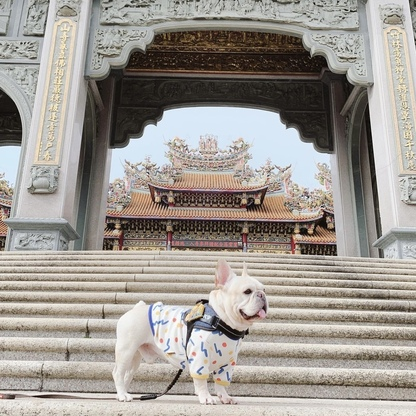bulldog: (112, 257, 271, 408)
